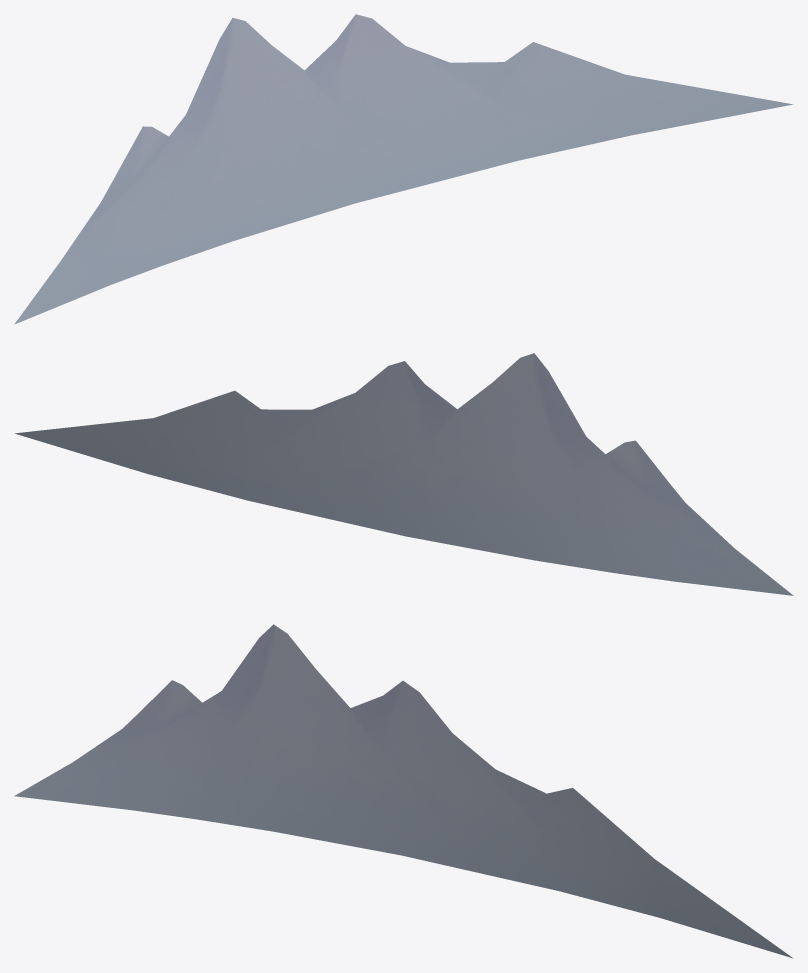
The model's file is sucai_14.FBX.
3 renders of one model, top to bottom at view 1: azimuth 30°, elevation 25°; view 2: azimuth 150°, elevation 25°; view 3: azimuth 330°, elevation 25°, orthographic. The views are drawn at different scales.
Parts seen in each view (by area): view 1: sucai_15; view 2: sucai_15; view 3: sucai_15.
Part boxes in pixels (bbox=[...]): sucai_15: bbox=[14, 14, 793, 324]; sucai_15: bbox=[14, 353, 793, 595]; sucai_15: bbox=[14, 624, 793, 958].
Bounding box in the file's own units: 945 × 249 × 84.82.
